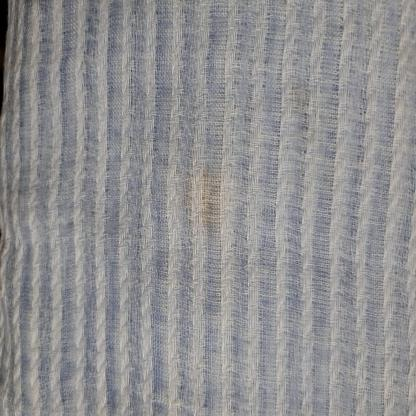spot: (180, 148, 250, 284)
